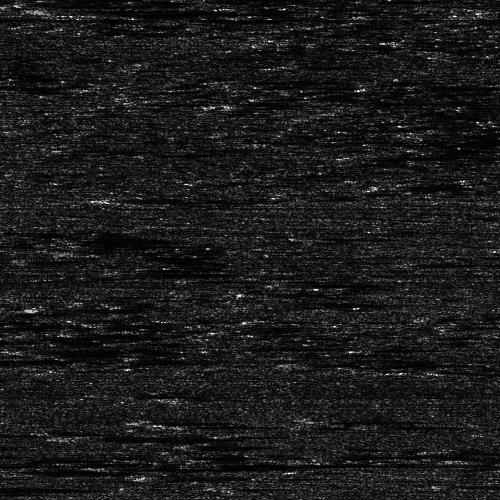object: (26, 0, 119, 19), (90, 262, 163, 285), (63, 192, 126, 201), (46, 431, 109, 440), (0, 464, 60, 473), (128, 473, 169, 480), (84, 463, 137, 468), (150, 420, 191, 423)
shadow: (73, 0, 245, 19), (127, 262, 210, 285), (24, 464, 211, 473), (95, 192, 262, 201), (0, 479, 84, 496), (78, 431, 233, 440), (0, 351, 134, 360), (0, 329, 68, 344), (111, 463, 307, 468), (149, 473, 227, 480), (0, 11, 25, 20), (170, 420, 211, 423)
